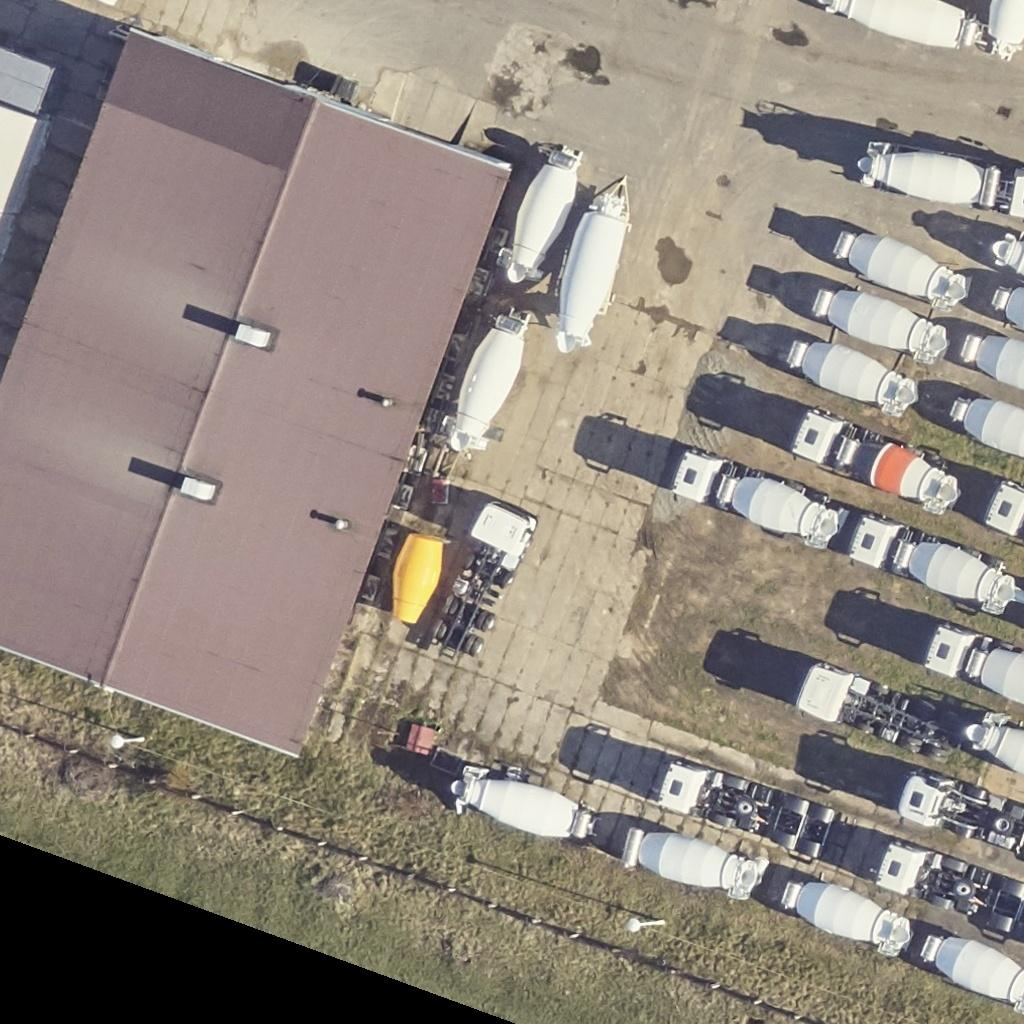betoniarka: (780, 395, 971, 516), (665, 443, 852, 549), (393, 533, 445, 624)
